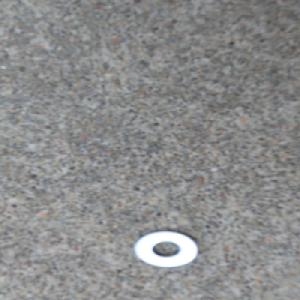Washer: (130, 228, 201, 269)
